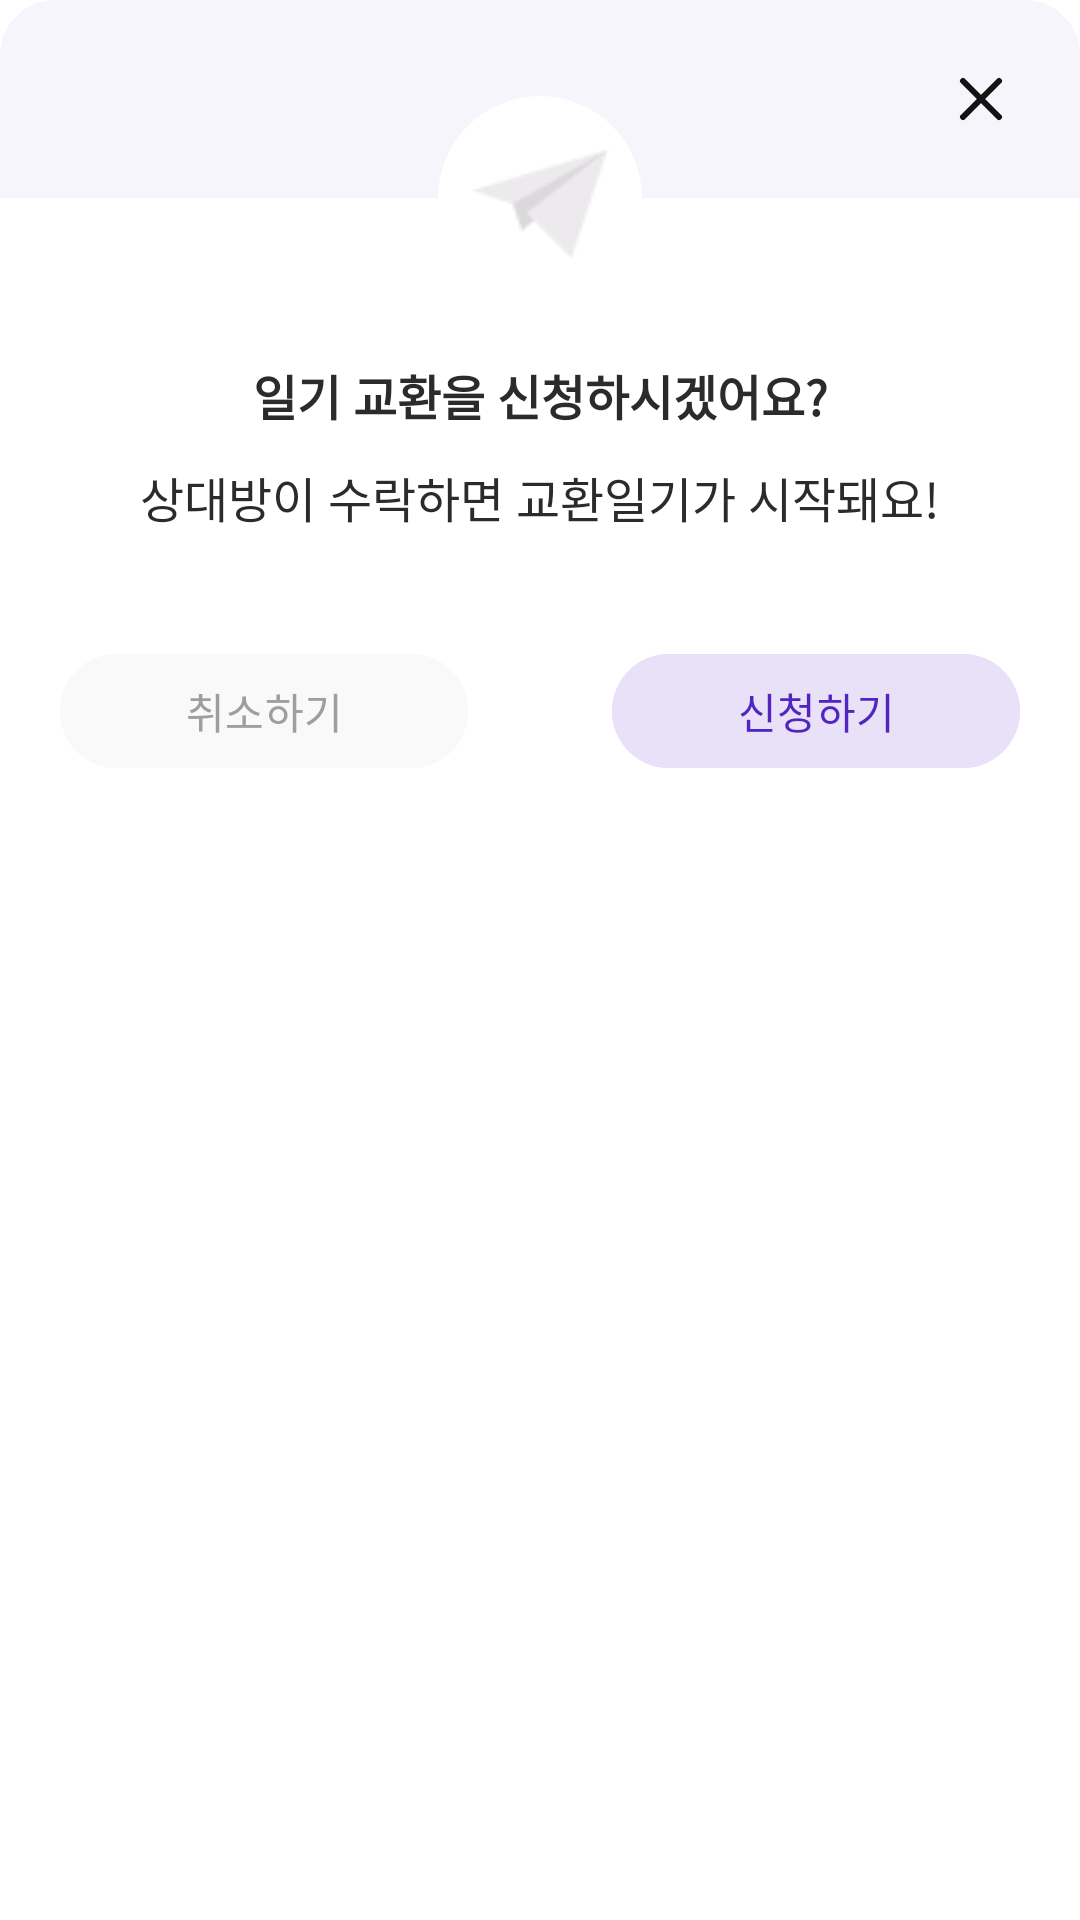

Icon click points for this 1080 × 1920 phone screenshot, format (x,y):
close md: (981,99)
